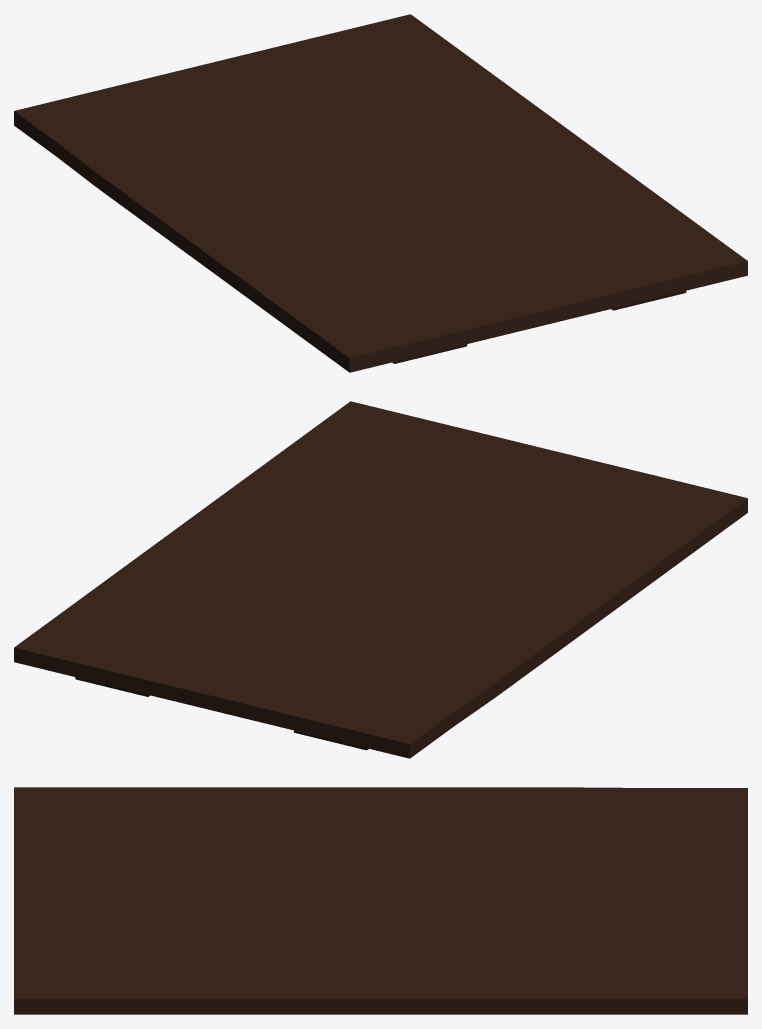
Rendered from Small Single Dark Crate Lid.fbx.
The picture shows the model from 3 angles, top to bottom: view 1: azimuth 30°, elevation 25°; view 2: azimuth 150°, elevation 25°; view 3: azimuth 270°, elevation 25°; orthographic projection. The views are drawn at different scales.
Parts seen in each view (by area): view 1: Small Single Dark Crate Lid; view 2: Small Single Dark Crate Lid; view 3: Small Single Dark Crate Lid.
Boxes of the visible parts, x1,y1,x2,y2 form: Small Single Dark Crate Lid: [14, 14, 747, 372]; Small Single Dark Crate Lid: [14, 401, 747, 758]; Small Single Dark Crate Lid: [14, 787, 747, 1014].
Bounding box in the file's own units: 8.35 × 204 × 139.
1 material, 1 textured.
